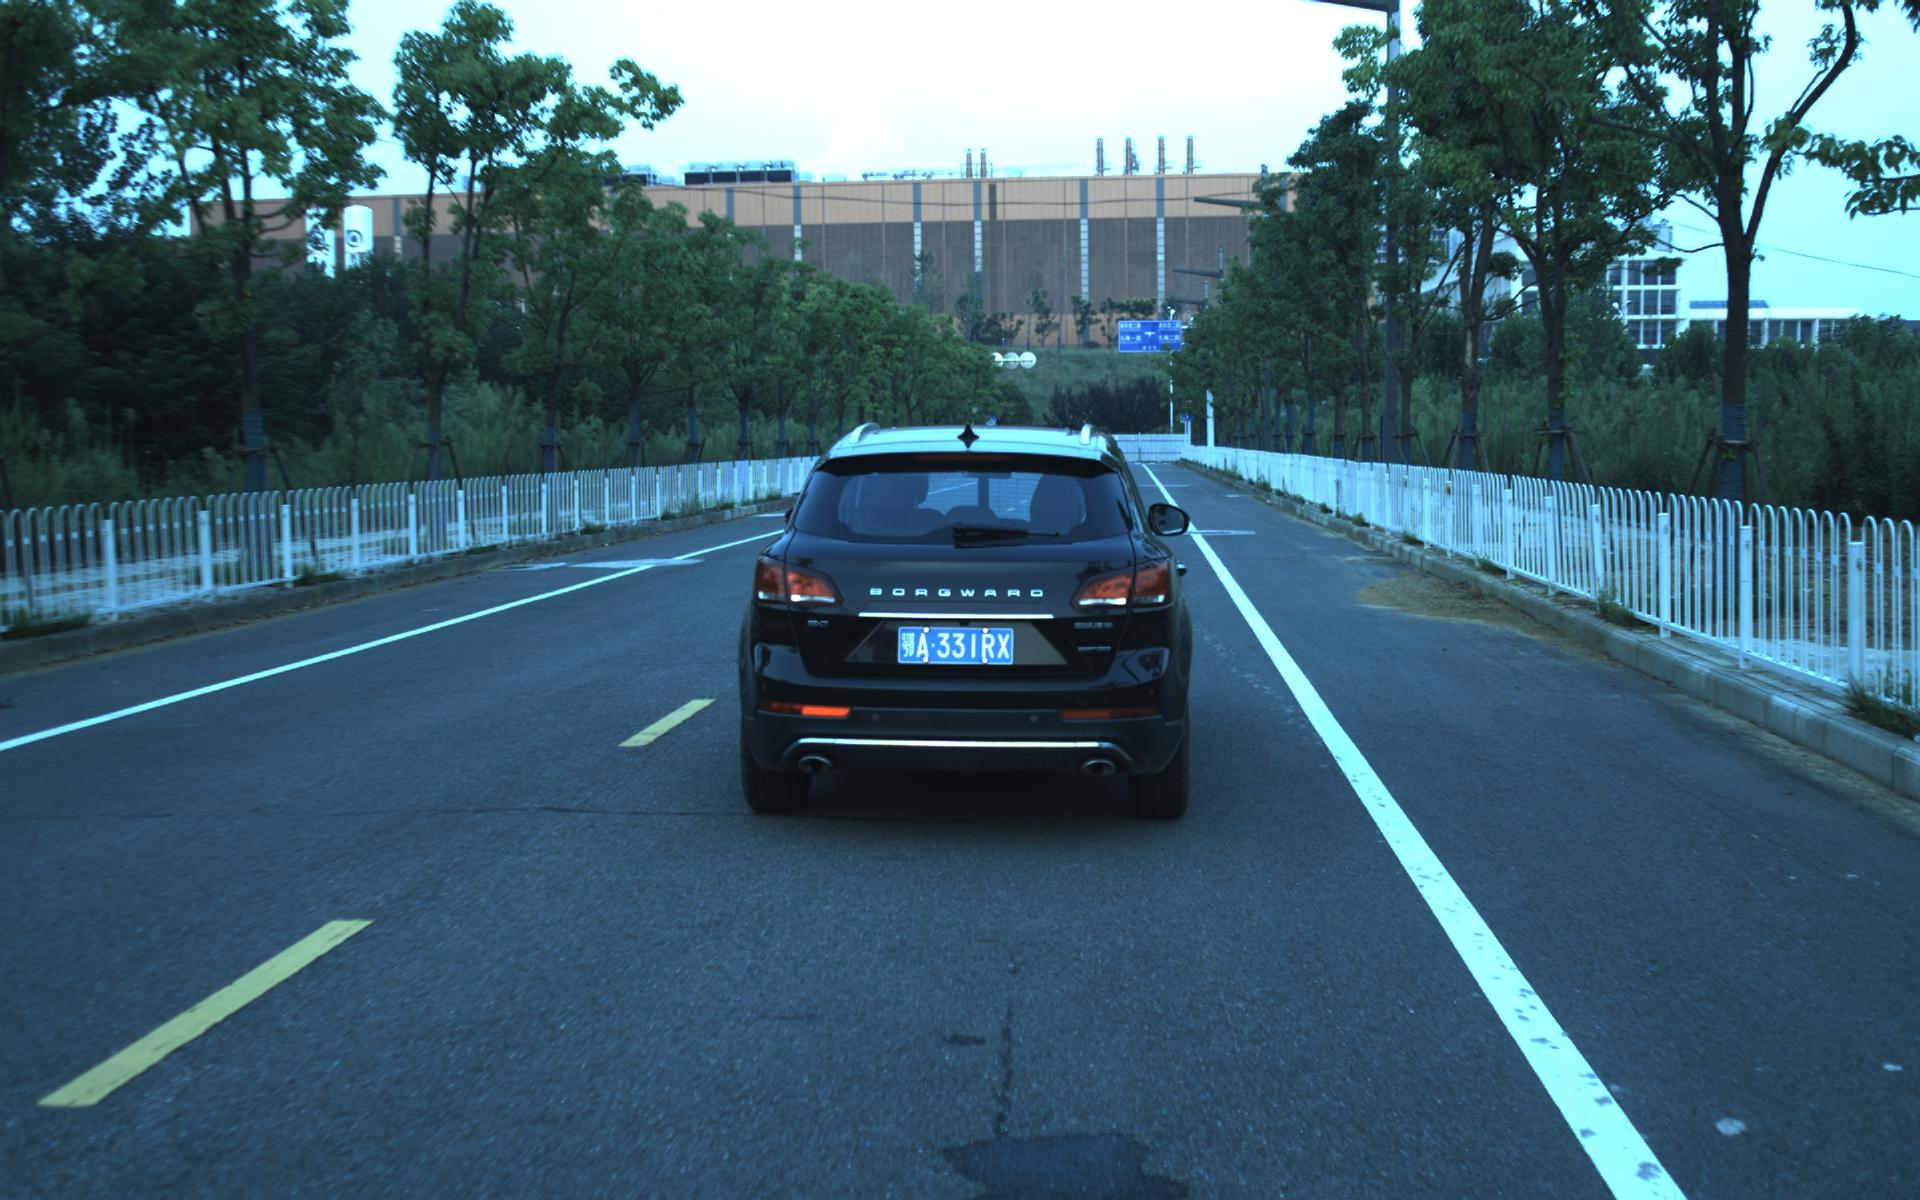Car: (722, 398, 1198, 836)
